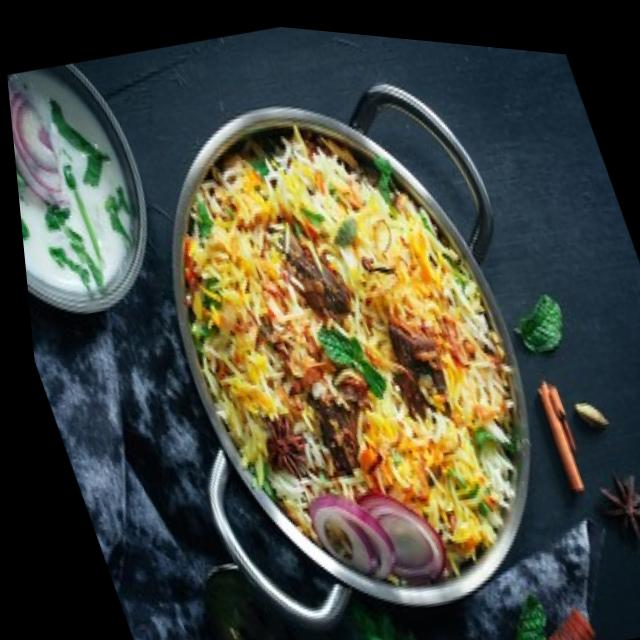BIRIYANI: (188, 131, 511, 572)
